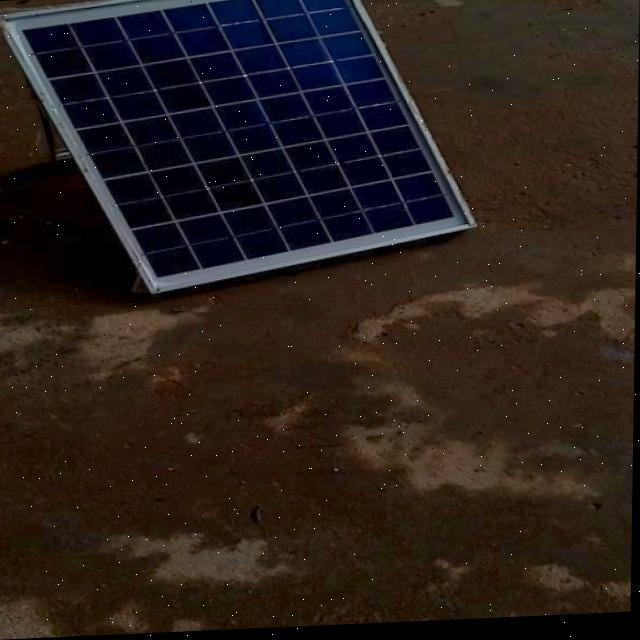Normal Solar Panel: (0, 0, 480, 299)
